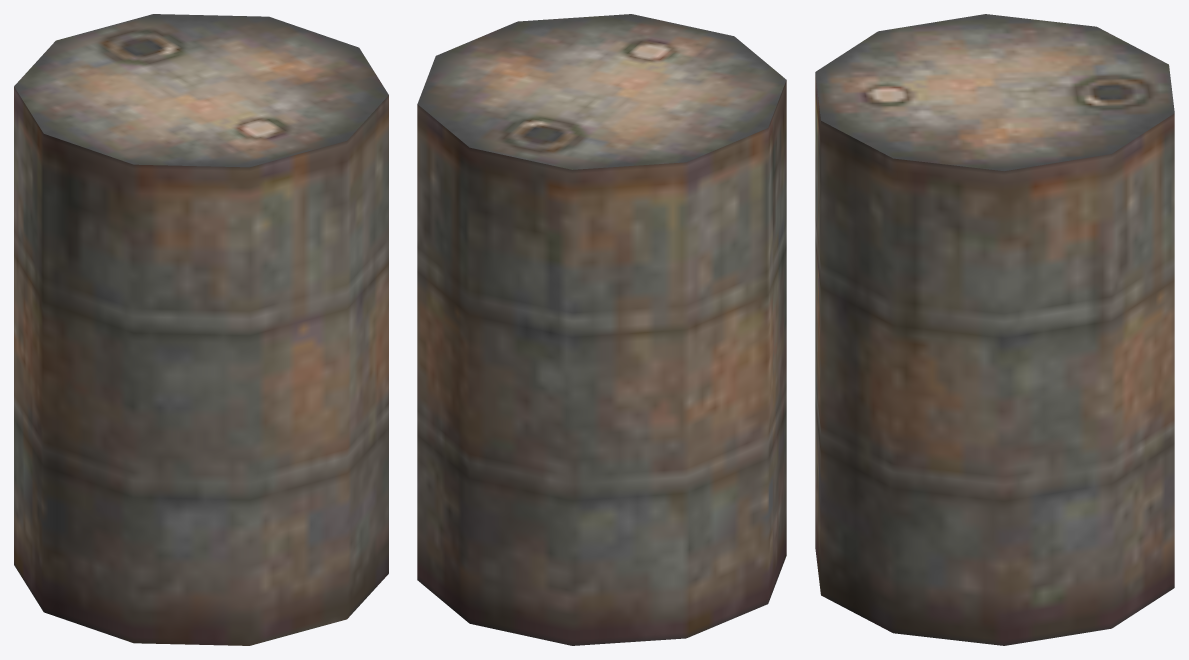
3 renders of one model, left to right at view 1: azimuth 30°, elevation 25°; view 2: azimuth 150°, elevation 25°; view 3: azimuth 270°, elevation 25°, orthographic.
Parts seen in each view (by area): view 1: objdefault; view 2: objdefault; view 3: objdefault.
Part boxes in pixels (left/top/right/bottom): objdefault: left=14, top=14, right=388, bottom=645; objdefault: left=417, top=14, right=786, bottom=645; objdefault: left=815, top=14, right=1174, bottom=645.
Bounding box in the file's own units: 1.12 × 1.57 × 1.08.
1 material, 1 textured.
